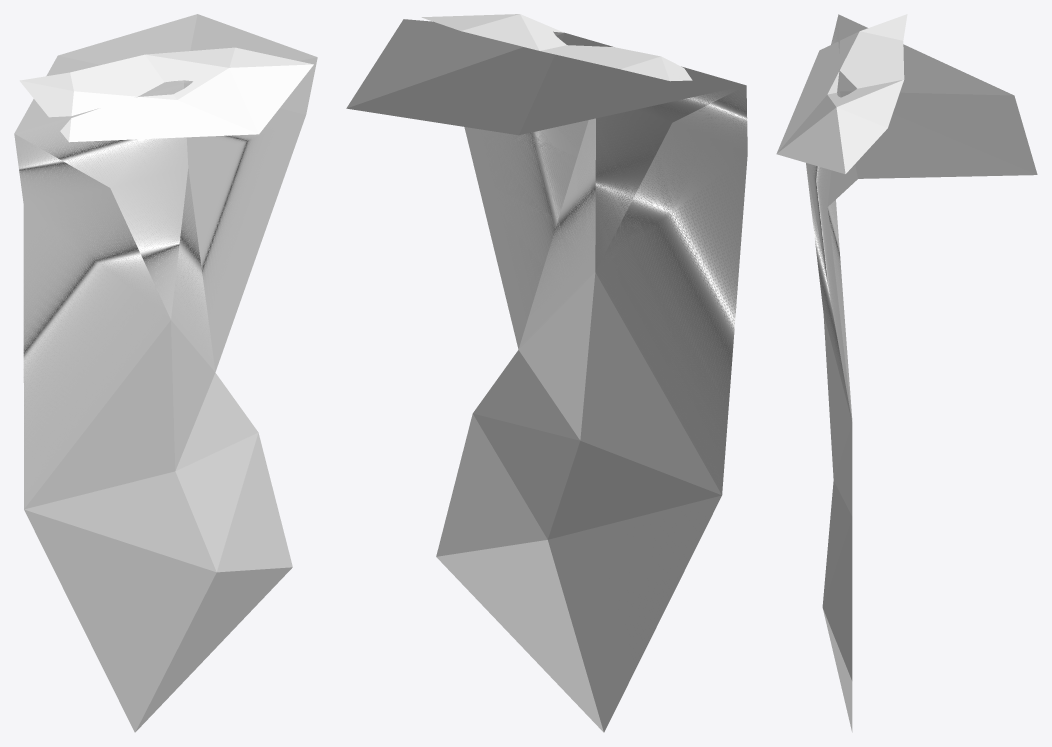
The model's file is SM_Env_Ivy_Draped_02.glb.
The picture shows the model from 3 angles, left to right: view 1: azimuth 30°, elevation 25°; view 2: azimuth 150°, elevation 25°; view 3: azimuth 270°, elevation 25°; orthographic projection. The views are drawn at different scales.
Parts seen in each view (by area): view 1: SM_Env_Ivy_Draped_02; view 2: SM_Env_Ivy_Draped_02; view 3: SM_Env_Ivy_Draped_02.
Part boxes in pixels (box(x1,y1,x2,y2)): SM_Env_Ivy_Draped_02: box(14, 14, 317, 732); SM_Env_Ivy_Draped_02: box(346, 14, 747, 732); SM_Env_Ivy_Draped_02: box(776, 14, 1037, 732).
Size of the model in its own units: 0.889 by 1.78 by 0.6236.
Materials: 1 (1 with a texture image).
